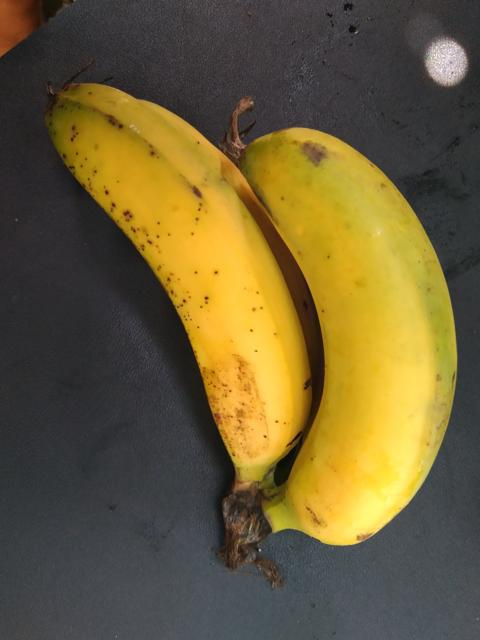freshripe: (233, 118, 474, 602)
ripe: (63, 75, 309, 499)
